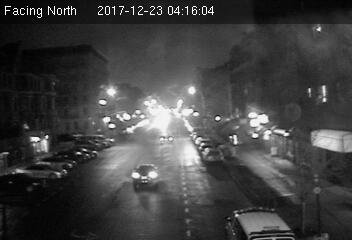car: (131, 164, 160, 186), (201, 146, 223, 164), (158, 132, 175, 144)
police: (222, 206, 298, 240)
